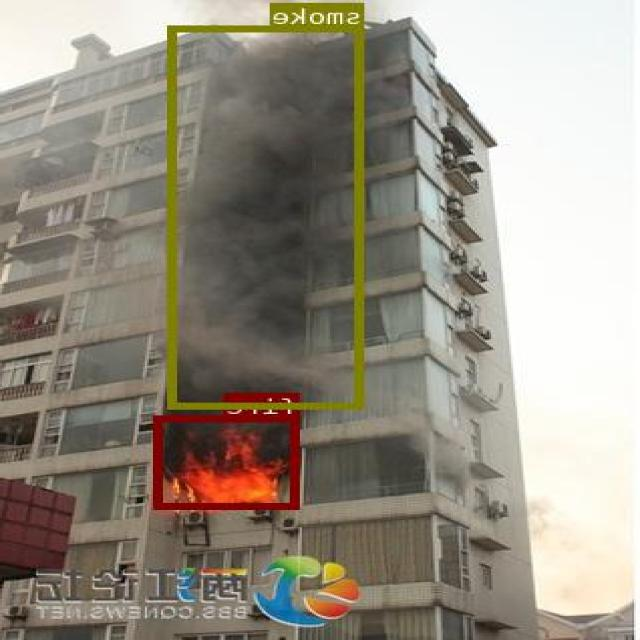fire: (156, 415, 301, 508)
smoke: (169, 25, 365, 407)
